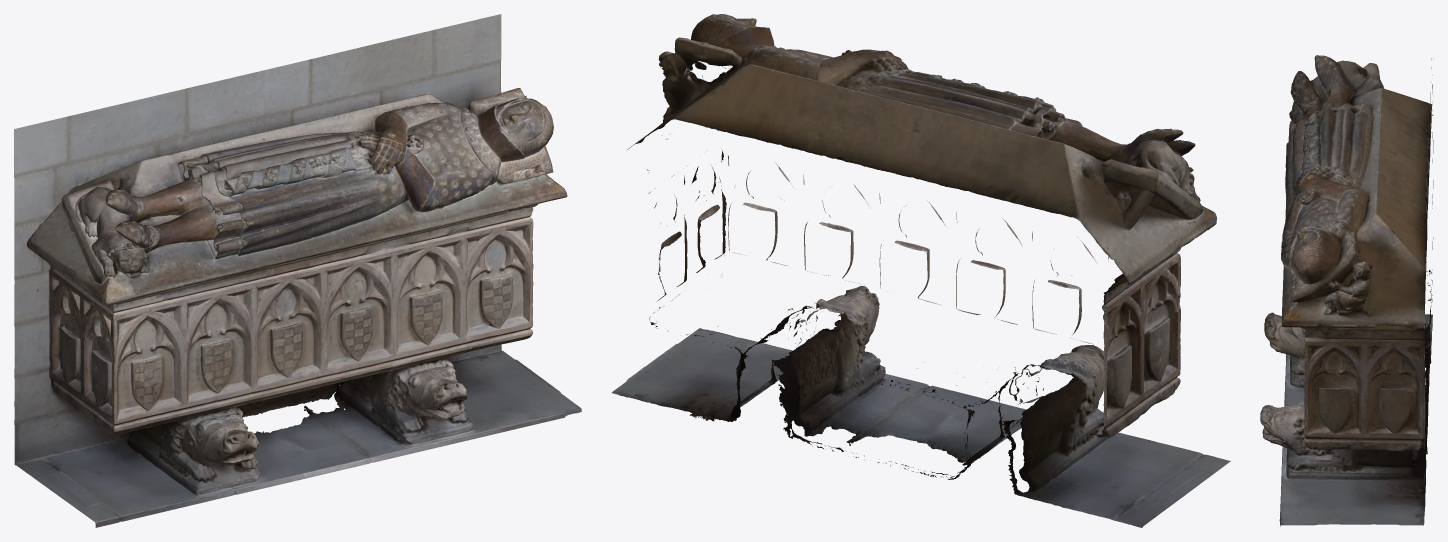
File: preview.glb
3 renders of one model, left to right at view 1: azimuth 30°, elevation 25°; view 2: azimuth 150°, elevation 25°; view 3: azimuth 270°, elevation 25°, orthographic. The views are drawn at different scales.
Parts seen in each view (by area): view 1: PG_48_140_2a_d_ErmengolX_Final_n3d; view 2: PG_48_140_2a_d_ErmengolX_Final_n3d; view 3: PG_48_140_2a_d_ErmengolX_Final_n3d.
Boxes of the visible parts, x1=… form: PG_48_140_2a_d_ErmengolX_Final_n3d: x1=14, y1=14, x2=581, y2=527; PG_48_140_2a_d_ErmengolX_Final_n3d: x1=611, y1=14, x2=1230, y2=527; PG_48_140_2a_d_ErmengolX_Final_n3d: x1=1260, y1=55, x2=1433, y2=526.
Bounding box in the file's own units: 2.2 × 1.48 × 0.7648.
1 material, 1 textured.
